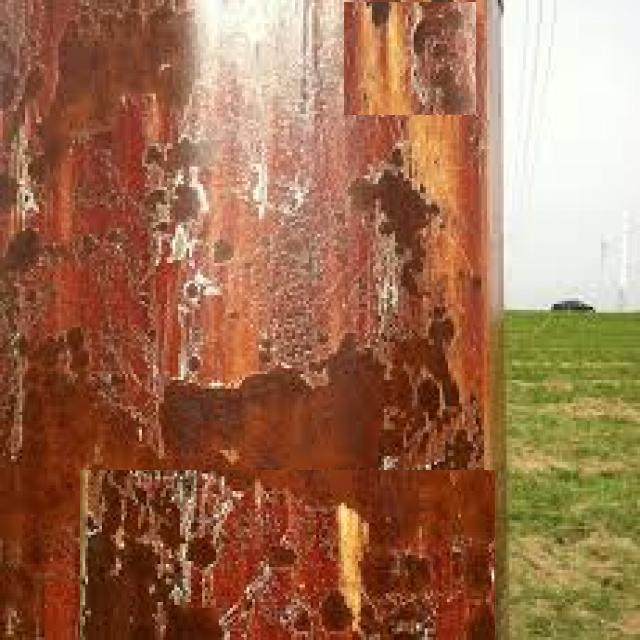Corrosion: (1, 0, 495, 638)
